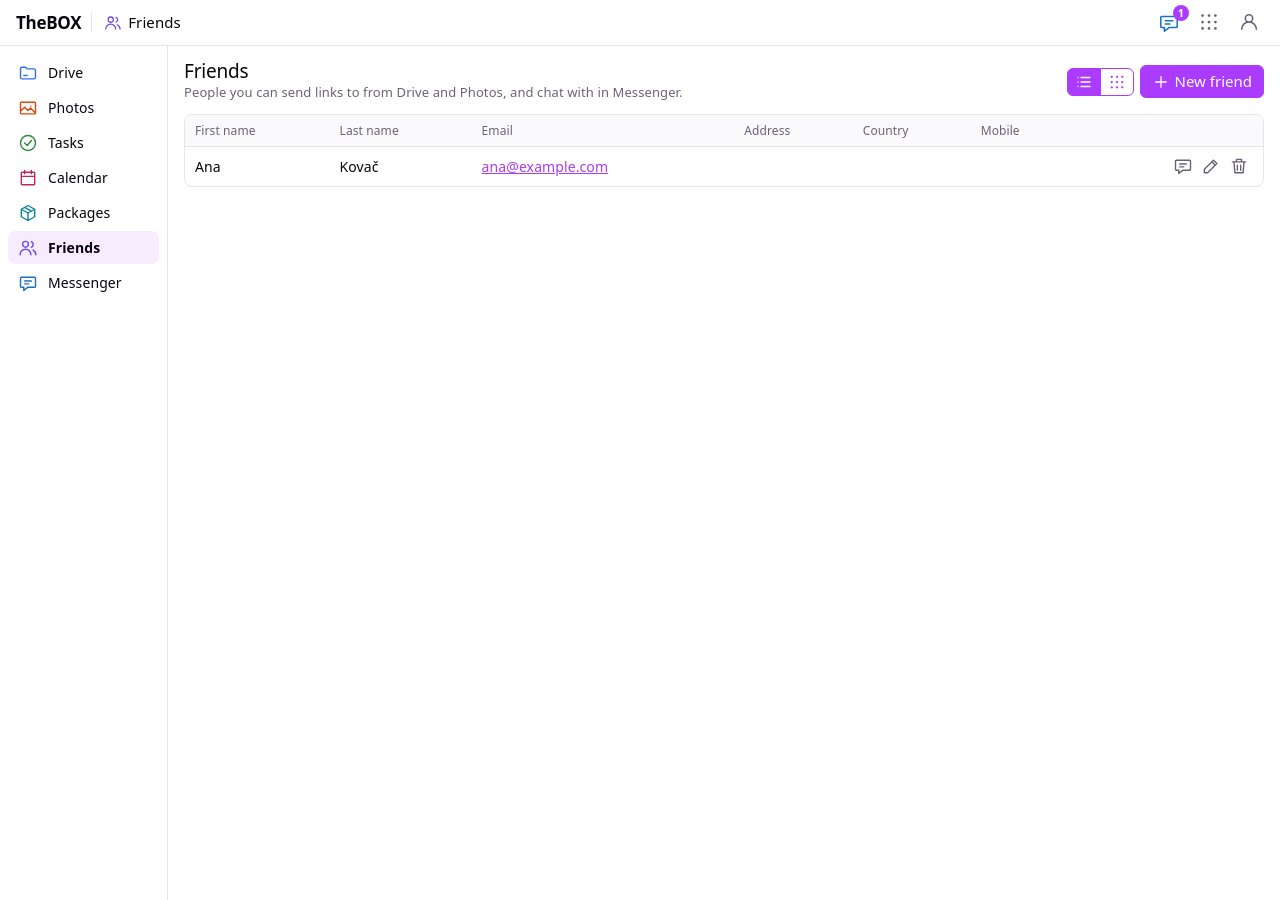
Test case: Messenger panel › opens the chat with a friend from the Friends page
Click the button named "Message Ana Kovač" at (1183,166), box [1169, 152, 1197, 180]
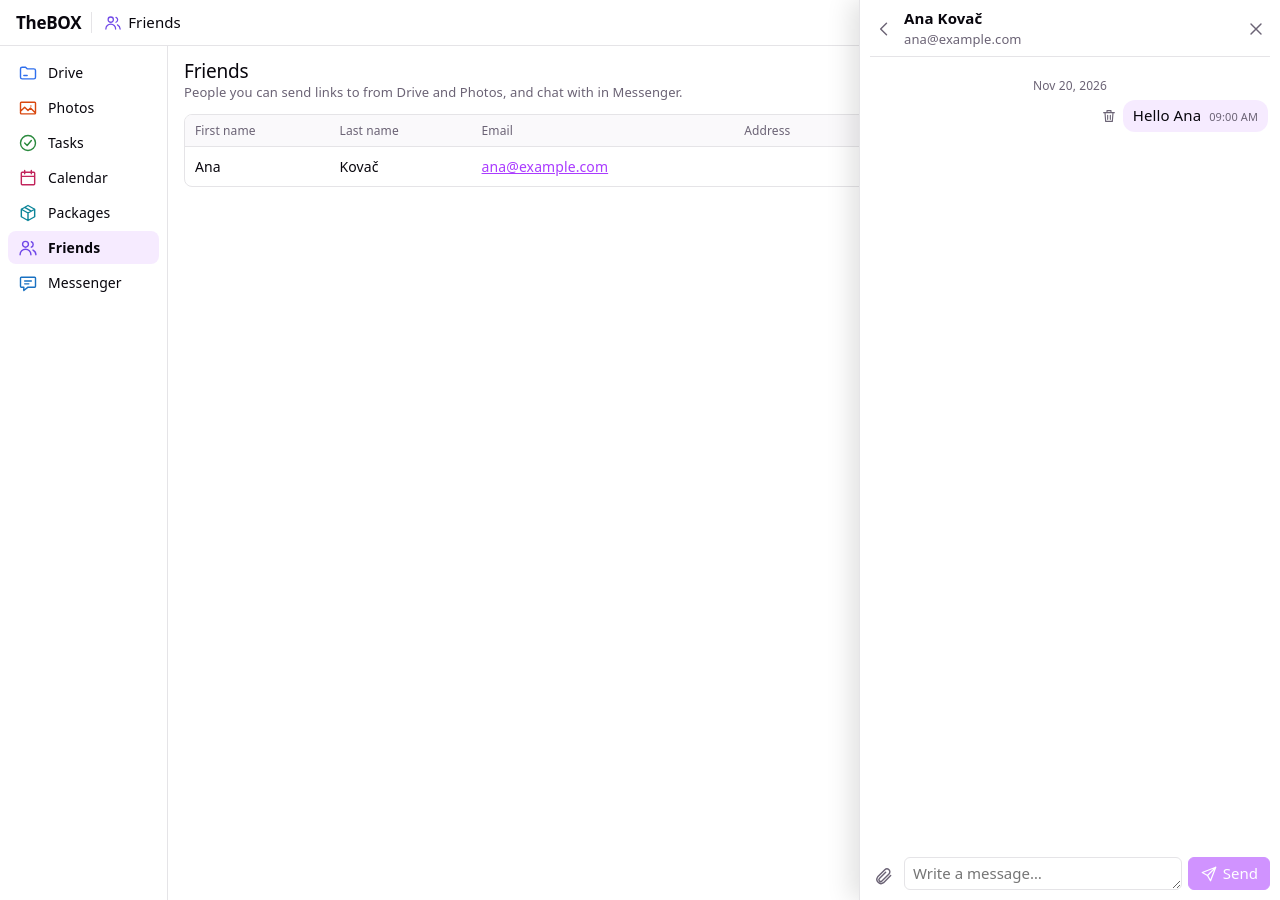
expect the heading "Friends" is shown: met, box [184, 58, 248, 84]
expect the text "Hello Ana" is shown: met, box [1133, 105, 1201, 126]
